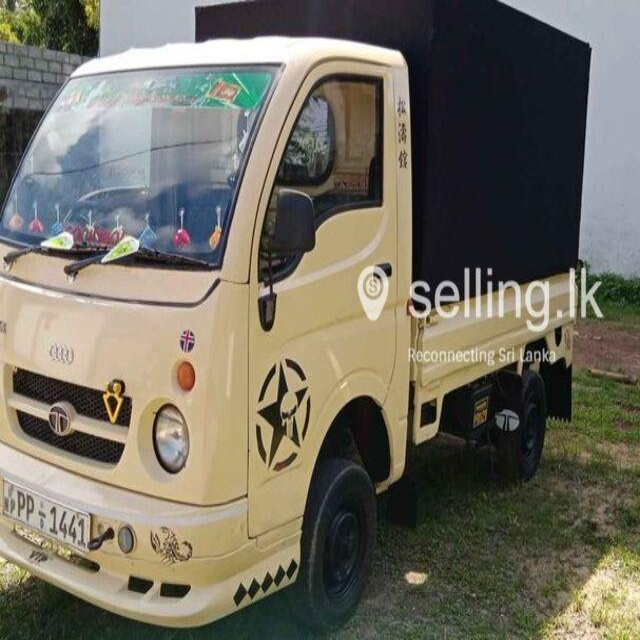Truck: (1, 1, 591, 640)
